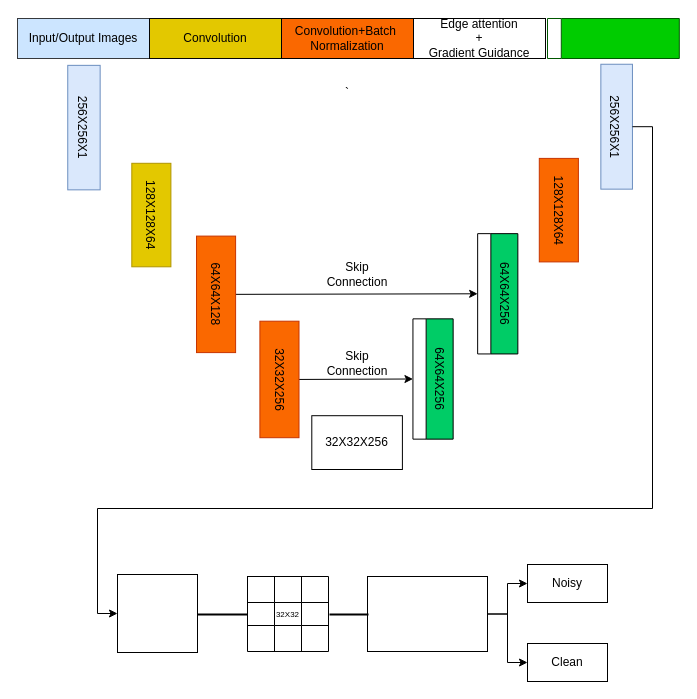
Some shapes in this 697 by 699 pixel diagram are drawn without their labels. The shapes that lost their labels are listed below. From the top down, each one's centre as x and y in pixels, then its label:
At (x=612, y=38): "Cov2DTranspose +Batch Normalization".
At (x=157, y=613): "Image generated by generator".
At (x=427, y=614): "Patch Discriminator".
